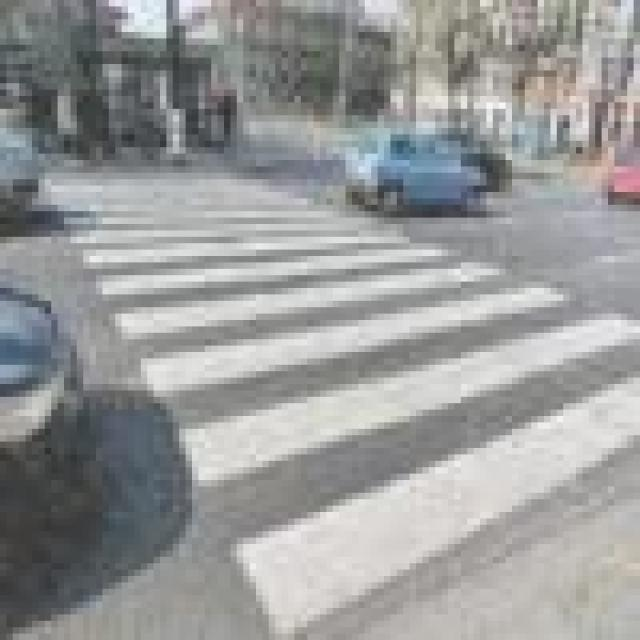crosswalk: (38, 160, 640, 640)
